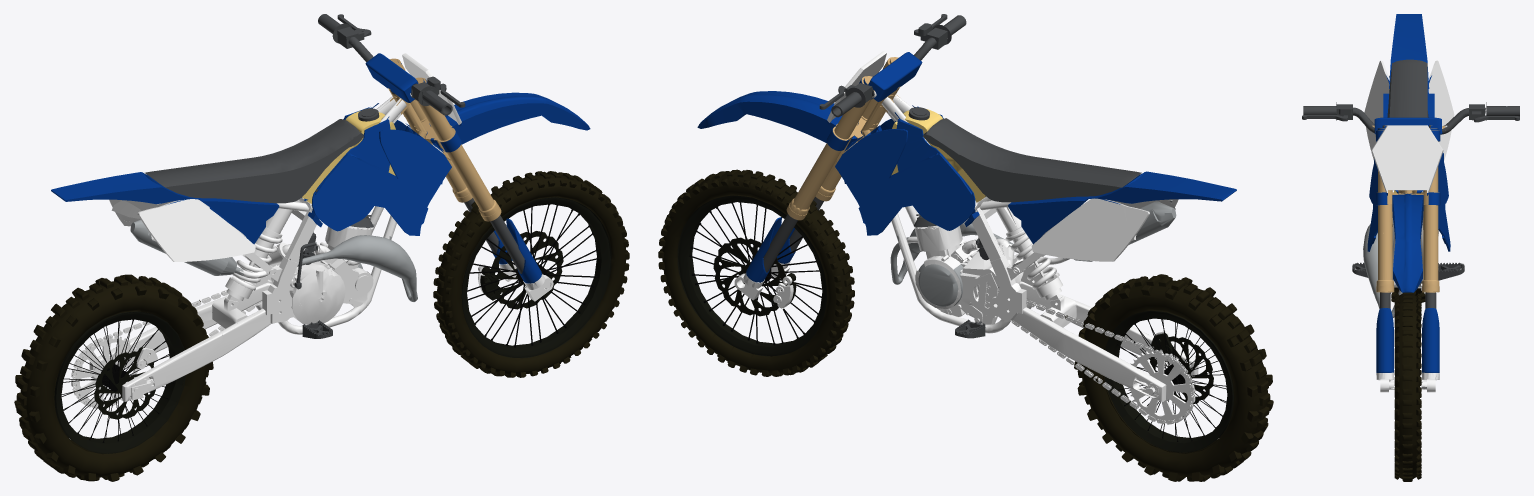
File: b-dirt.glb
The picture shows the model from 3 angles, left to right: view 1: azimuth 30°, elevation 25°; view 2: azimuth 150°, elevation 25°; view 3: azimuth 270°, elevation 25°; orthographic projection. The views are drawn at different scales.
Visible parts, largest first — view 1: Object_13, Object_15, Object_3, Object_2, Object_14, Object_12, Object_11, Object_16, Object_4, Object_5, Object_10, Object_6; view 2: Object_13, Object_15, Object_3, Object_2, Object_14, Object_12, Object_11, Object_16, Object_4, Object_7, Object_6, Object_10 (+1 smaller); view 3: Object_15, Object_12, Object_13, Object_14, Object_5, Object_7, Object_16, Object_3, Object_6, Object_4.
Boxes of the visible parts, x1,y1,x2,y2 form: Object_13: (14,171,629,481); Object_15: (51,53,590,283); Object_3: (71,61,553,408); Object_2: (54,197,611,453); Object_14: (145,14,524,338); Object_12: (109,53,461,261); Object_11: (61,204,599,442); Object_16: (130,219,417,301); Object_4: (73,99,516,407); Object_5: (399,61,498,212); Object_10: (302,111,395,203); Object_6: (388,77,501,221); Object_13: (658,169,1273,481); Object_15: (697,52,1236,282); Object_3: (771,91,1198,424); Object_2: (677,195,1233,452); Object_14: (763,14,1141,338); Object_12: (827,51,1178,261); Object_11: (689,202,1226,441); Object_16: (890,200,1176,308); Object_4: (734,99,1193,422); Object_7: (786,76,877,220); Object_6: (815,57,899,201); Object_10: (891,109,985,202); Object_15: (1367,14,1450,372); Object_12: (1364,60,1454,192); Object_13: (1391,287,1425,481); Object_14: (1302,59,1519,308); Object_5: (1376,130,1439,285); Object_7: (1422,125,1444,292); Object_16: (1363,75,1422,317); Object_3: (1376,125,1447,392); Object_6: (1372,125,1438,292); Object_4: (1390,223,1439,392).
Size of the model in its own units: 157 by 88.07 by 56.
